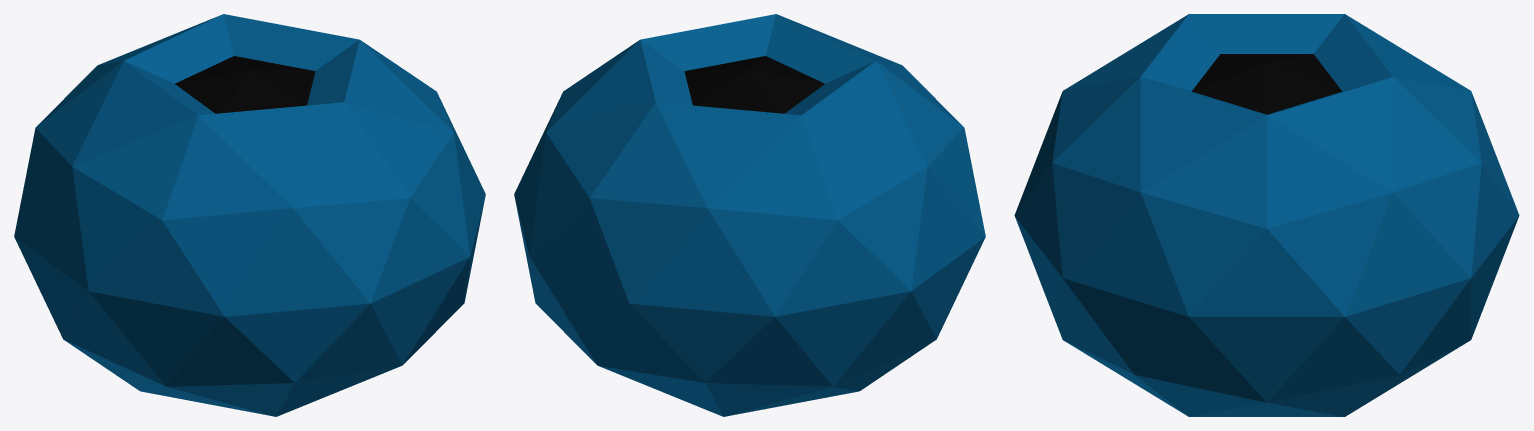
Rendered from Blueberry.fbx.
The picture shows the model from 3 angles, left to right: view 1: azimuth 30°, elevation 25°; view 2: azimuth 150°, elevation 25°; view 3: azimuth 270°, elevation 25°; orthographic projection. The views are drawn at different scales.
Visible parts, largest first — view 1: Blueberry_LOD0; view 2: Blueberry_LOD0; view 3: Blueberry_LOD0.
Boxes of the visible parts, x1,y1,x2,y2 form: Blueberry_LOD0: (14, 14, 485, 416); Blueberry_LOD0: (514, 14, 985, 416); Blueberry_LOD0: (1014, 14, 1519, 416).
Size of what is drawn, in the model's own units: 190 by 148 by 200.
